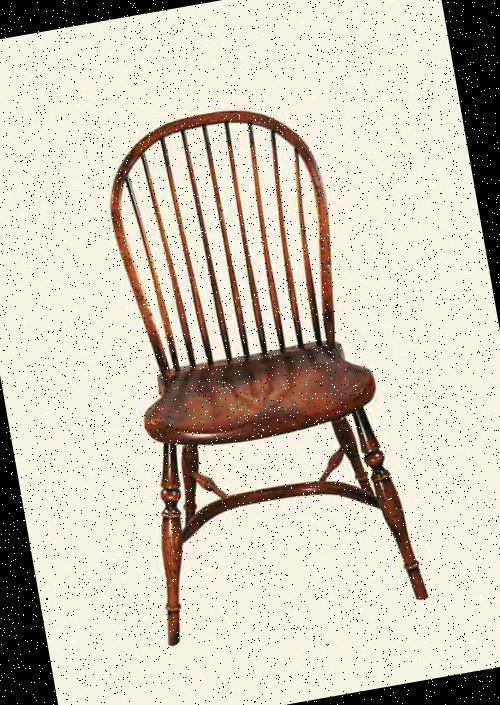Silla: (72, 94, 429, 644)
